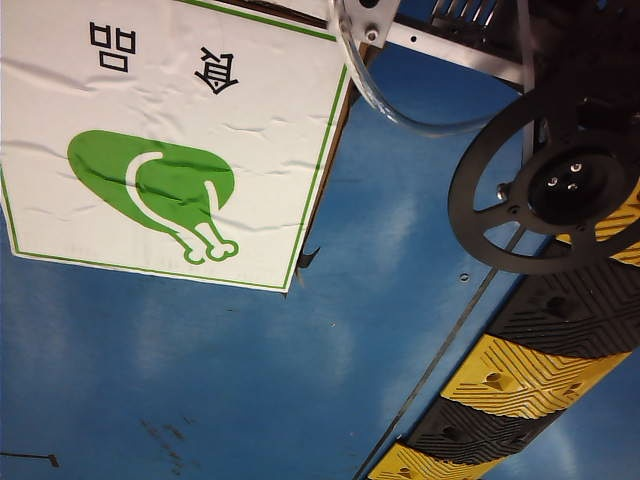Cube_food: (4, 8, 332, 295)
